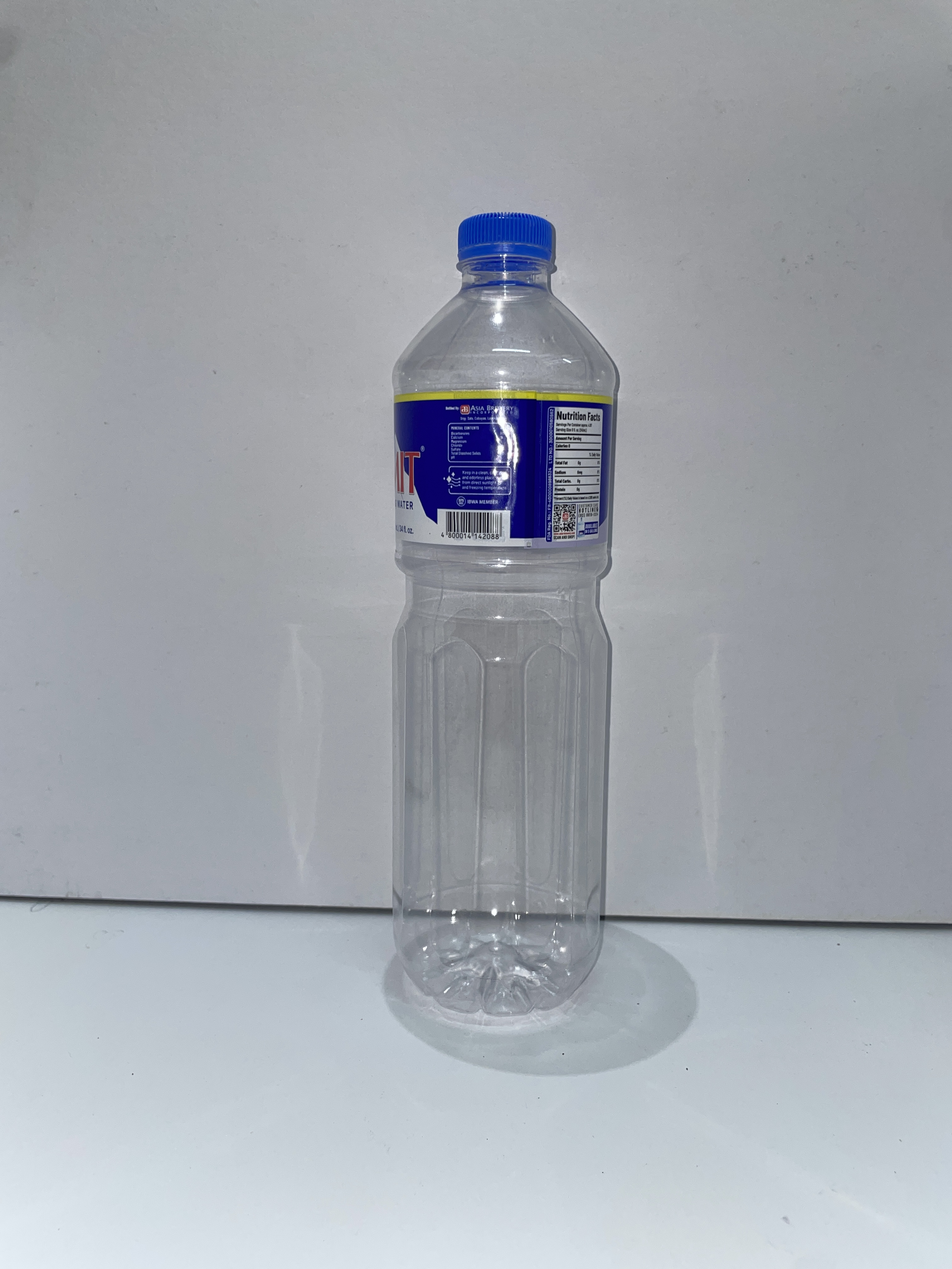Le Minerale 1000ml: (392, 213, 619, 1021)
